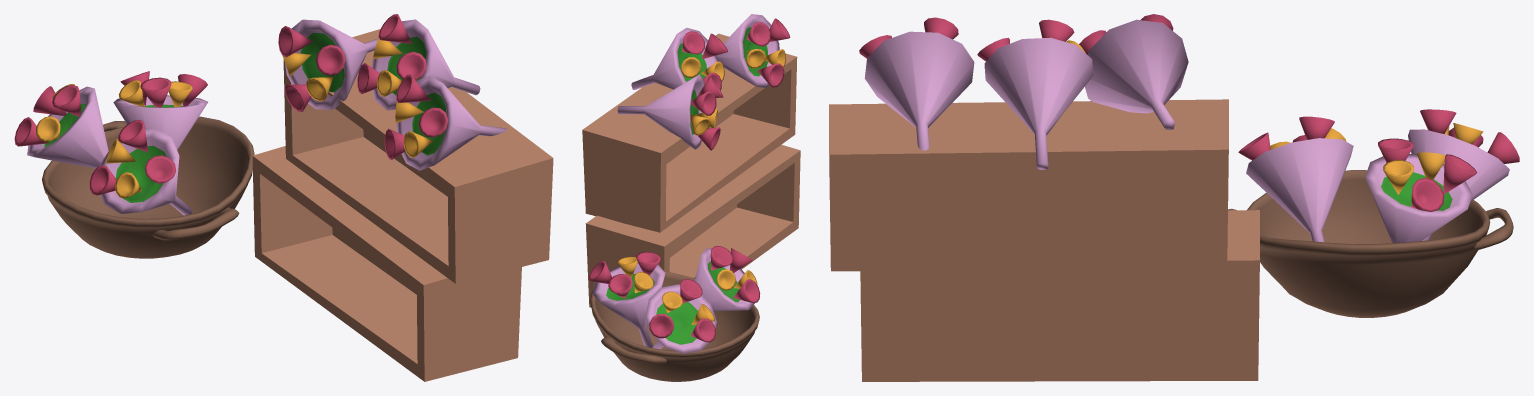
Rendered from flower_shop.fbx.
The picture shows the model from 3 angles, left to right: view 1: azimuth 30°, elevation 25°; view 2: azimuth 150°, elevation 25°; view 3: azimuth 270°, elevation 25°; orthographic projection. The views are drawn at different scales.
Parts seen in each view (by area): view 1: stall_small_stackable.001, stall_small_stackable, Basket, Bouquet.005, Bouquet.003, Bouquet.001, Bouquet.006, Bouquet.002, Bouquet.004; view 2: stall_small_stackable.001, stall_small_stackable, Basket, Bouquet.006, Bouquet.001, Bouquet.004, Bouquet.003, Bouquet.002, Bouquet.005; view 3: stall_small_stackable.001, stall_small_stackable, Basket, Bouquet.003, Bouquet.002, Bouquet.001, Bouquet.004, Bouquet.005, Bouquet.006.
Boxes of the visible parts, <box> form: stall_small_stackable.001: <box>283,29,553,283</box>; stall_small_stackable: <box>252,146,521,381</box>; Basket: <box>42,116,254,258</box>; Bouquet.005: <box>89,120,192,215</box>; Bouquet.003: <box>384,74,507,170</box>; Bouquet.001: <box>278,19,378,111</box>; Bouquet.006: <box>14,84,108,168</box>; Bouquet.002: <box>357,14,480,110</box>; Bouquet.004: <box>113,71,207,150</box>; stall_small_stackable.001: <box>582,33,797,232</box>; stall_small_stackable: <box>585,144,800,307</box>; Basket: <box>590,271,759,381</box>; Bouquet.006: <box>645,279,716,353</box>; Bouquet.001: <box>617,74,723,150</box>; Bouquet.004: <box>588,251,665,347</box>; Bouquet.003: <box>716,14,790,87</box>; Bouquet.002: <box>631,27,727,90</box>; Bouquet.005: <box>694,246,760,311</box>; stall_small_stackable.001: <box>829,99,1228,271</box>; stall_small_stackable: <box>860,210,1259,381</box>; Basket: <box>1228,170,1513,317</box>; Bouquet.003: <box>859,17,974,150</box>; Bouquet.002: <box>977,19,1093,169</box>; Bouquet.001: <box>1079,14,1188,129</box>; Bouquet.004: <box>1365,138,1476,243</box>; Bouquet.005: <box>1238,116,1353,242</box>; Bouquet.006: <box>1408,109,1519,240</box>.
Bounding box in the file's own units: 247 × 243 × 446.
